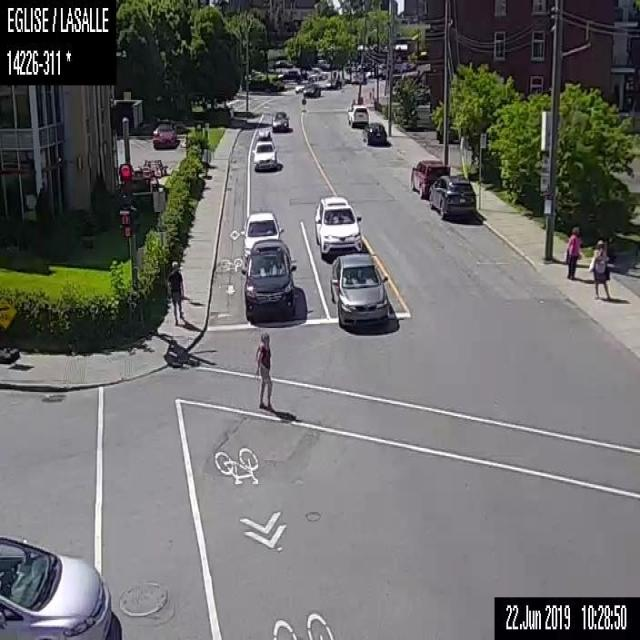pedestrian: (254, 332, 271, 408), (588, 240, 610, 297), (166, 259, 184, 325), (565, 224, 580, 277)
vehicle: (0, 530, 122, 638), (239, 238, 297, 318), (329, 247, 387, 324), (312, 193, 363, 256), (427, 174, 477, 220), (238, 211, 283, 256), (408, 156, 449, 196), (250, 130, 279, 169), (152, 124, 178, 149), (362, 119, 387, 144), (346, 104, 368, 128), (270, 108, 289, 132), (302, 83, 320, 97), (294, 80, 308, 94)
